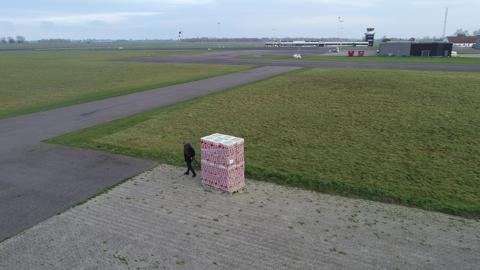RockwoolPallet: (199, 132, 246, 193)
